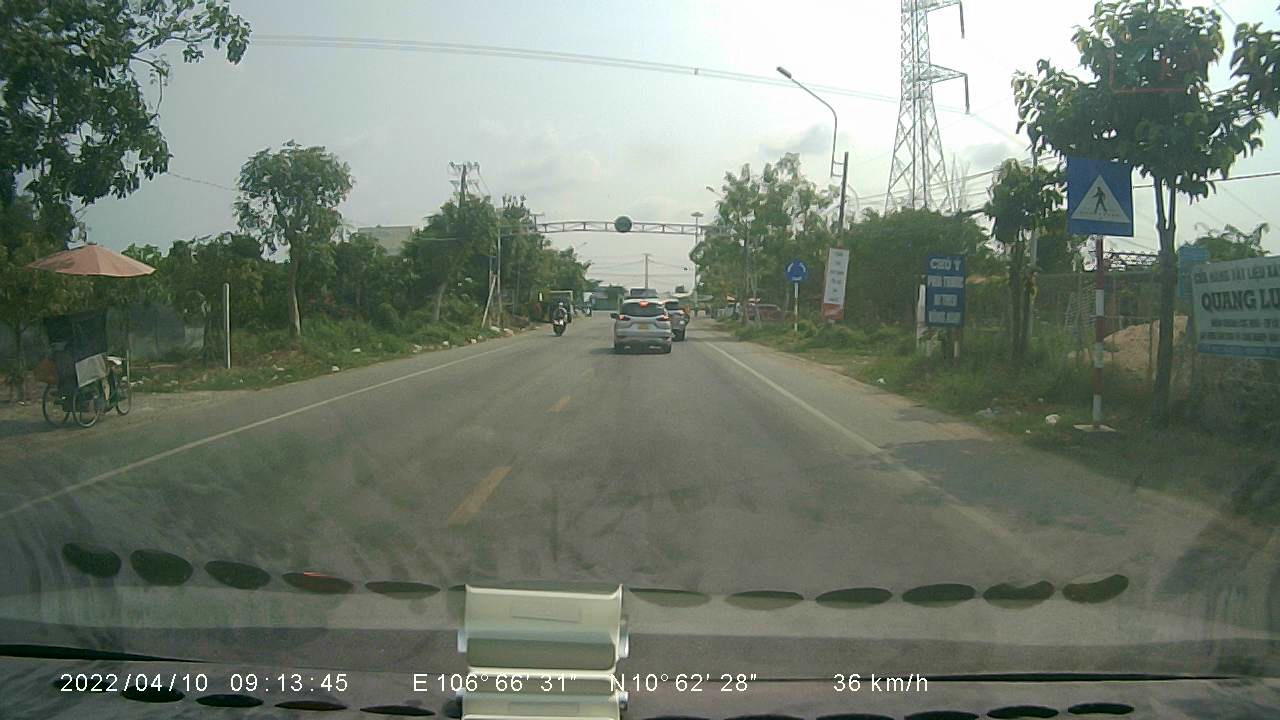Bien khac: (784, 257, 808, 284)
Nguoi di bo: (1062, 148, 1138, 240)
